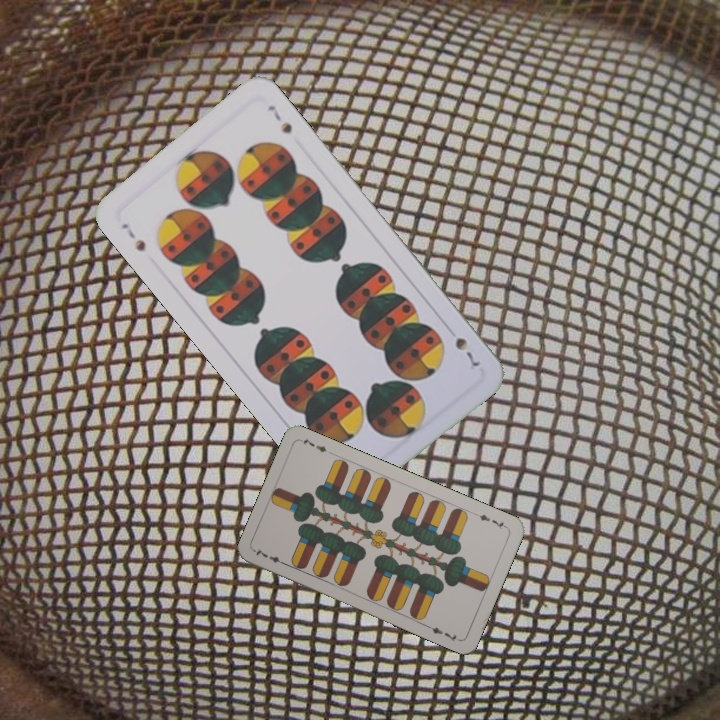E7: (251, 544, 289, 568), (471, 509, 510, 532)
S7: (450, 333, 483, 370), (117, 219, 149, 254)
